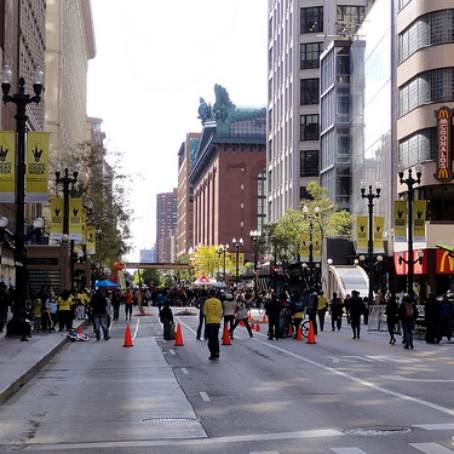building: (357, 1, 454, 254), (269, 1, 352, 255), (178, 100, 265, 274), (1, 1, 48, 240), (49, 1, 88, 266)
street: (1, 320, 454, 454)
traffic cone: (118, 322, 136, 353), (302, 318, 320, 349), (218, 320, 236, 351), (173, 318, 191, 349)
